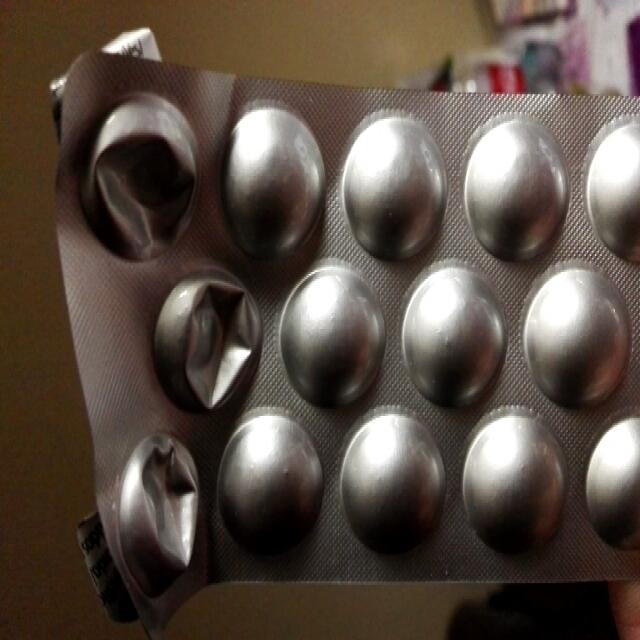Empty: (84, 91, 198, 263), (159, 267, 263, 416), (103, 430, 203, 583)
Pill: (332, 409, 454, 569), (339, 98, 448, 261), (222, 96, 327, 261), (520, 265, 638, 411), (277, 258, 392, 407), (462, 407, 565, 565), (458, 115, 571, 258), (396, 266, 512, 404), (222, 418, 325, 570), (583, 109, 640, 263), (585, 422, 640, 558)
